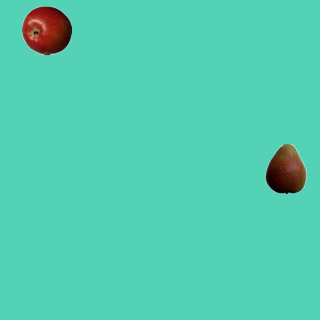Apple Braeburn: (21, 5, 71, 55)
Pear Forelle: (260, 143, 310, 193)
